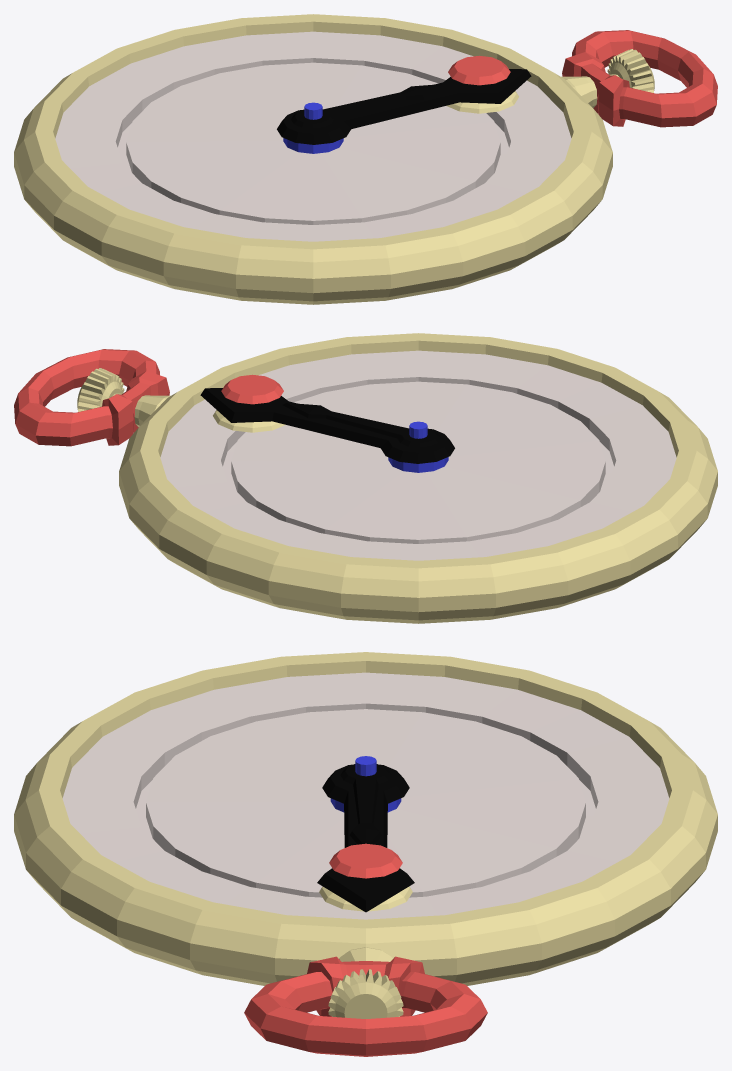
Rendered from PocketWatch_03.fbx.
The picture shows the model from 3 angles, top to bottom: view 1: azimuth 30°, elevation 25°; view 2: azimuth 150°, elevation 25°; view 3: azimuth 270°, elevation 25°; orthographic projection. The views are drawn at different scales.
Parts seen in each view (by area): view 1: Watch03_Body, Watch03_Button, Watch03_LongHand, Watch03_ShortHand, Watch03_Handle, Watch03_SeqPin; view 2: Watch03_Body, Watch03_Button, Watch03_LongHand, Watch03_ShortHand, Watch03_Handle, Watch03_SeqPin; view 3: Watch03_Body, Watch03_Button, Watch03_LongHand, Watch03_ShortHand, Watch03_Handle, Watch03_SeqPin.
Part boxes in pixels (<box>): Watch03_Body: <box>14,14,654,304</box>; Watch03_Button: <box>562,30,717,127</box>; Watch03_LongHand: <box>277,69,531,144</box>; Watch03_ShortHand: <box>291,84,449,128</box>; Watch03_Handle: <box>448,55,510,85</box>; Watch03_SeqPin: <box>446,91,518,113</box>; Watch03_Body: <box>77,333,717,623</box>; Watch03_Button: <box>14,349,169,446</box>; Watch03_LongHand: <box>200,388,454,463</box>; Watch03_ShortHand: <box>282,403,440,447</box>; Watch03_Handle: <box>221,374,283,404</box>; Watch03_SeqPin: <box>213,410,285,432</box>; Watch03_Body: <box>14,652,717,1018</box>; Watch03_Button: <box>244,956,487,1056</box>; Watch03_LongHand: <box>317,764,414,912</box>; Watch03_ShortHand: <box>340,764,391,844</box>; Watch03_Handle: <box>329,843,402,878</box>; Watch03_SeqPin: <box>319,886,412,911</box>.
Size of the model in its own units: 268 by 32.53 by 215.
